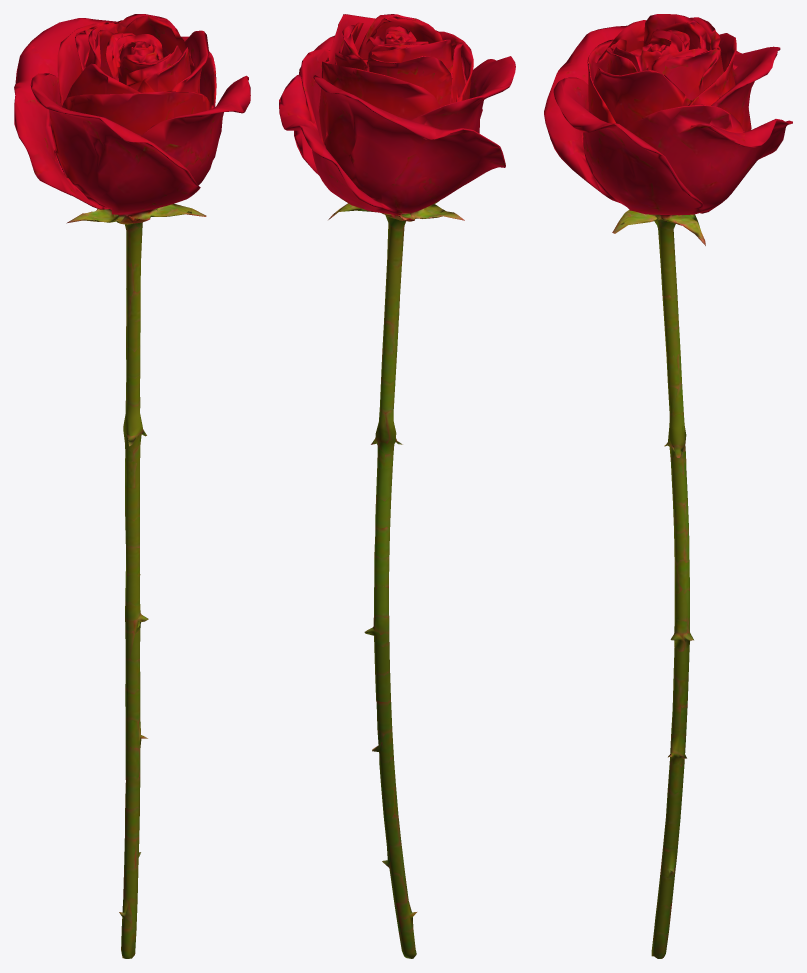
Rendered from rose.glb.
3 renders of one model, left to right at view 1: azimuth 30°, elevation 25°; view 2: azimuth 150°, elevation 25°; view 3: azimuth 270°, elevation 25°, orthographic.
Bounding box in the file's own units: 0.4519 × 1.9 × 0.4611.
Materials: 1 (1 with a texture image).
